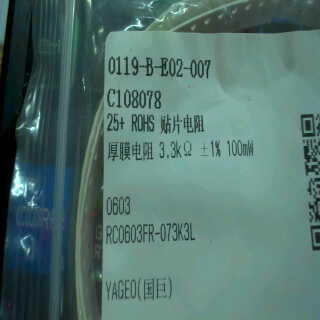3.3kO: (158, 137, 199, 163)
